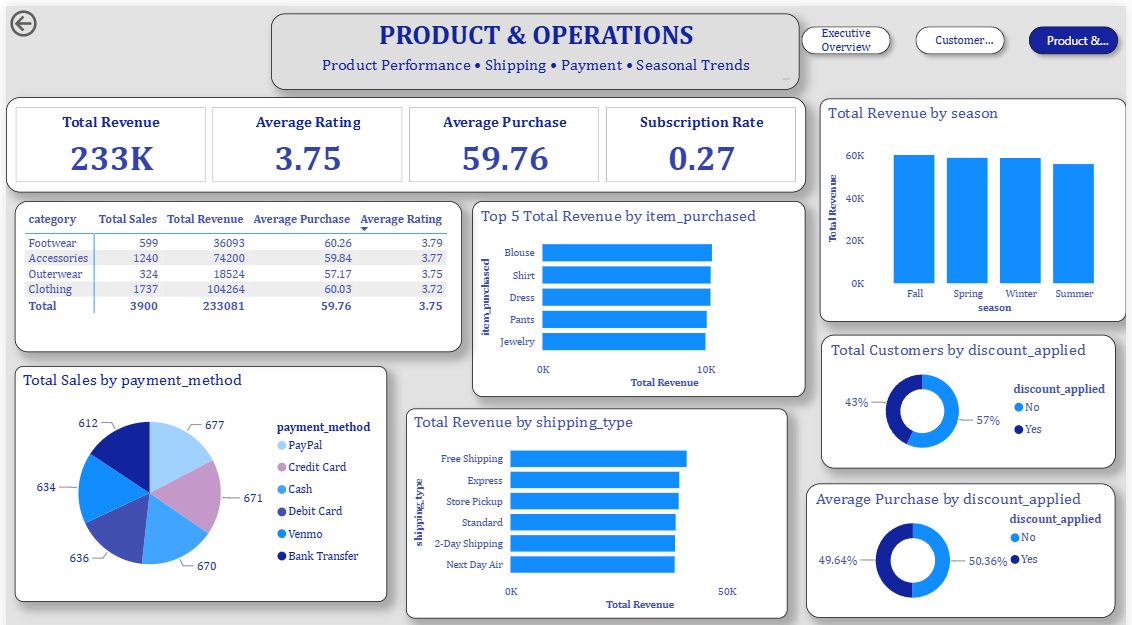

Layout of this report page (visuals, bound fields, positions):
{"tool":"powerbi","page":{"name":"Product & Operations","canvas":[1280,720],"ordinal":2},"visuals":[{"type":"textbox","title":"PRODUCT & OPERATIONS","box":[303,8,604,87],"z":0},{"type":"cardVisual","fields":{"Data":["Measures (2).Total Revenue","Measures (2).Average Rating","Measures (2).Average Purchase","Measures (2).Subscription Rate"]},"box":[0,103.8,914.1,109],"z":1000},{"type":"clusteredBarChart","title":"Top 5 Total Revenue by item_purchased","fields":{"Category":["public customer.item_purchased"],"Y":["Measures (2).Total Revenue"]},"box":[533.3,223.1,380.8,224.4],"z":2000},{"type":"clusteredBarChart","fields":{"Category":["public customer.shipping_type"],"Y":["Measures (2).Total Revenue"]},"box":[457.7,460.3,435.9,239.7],"z":3000},{"type":"actionButton","box":[0,0,100,40],"z":4000},{"type":"pieChart","fields":{"Category":["public customer.payment_method"],"Y":["Measures (2).Total Sales"]},"box":[10.3,411.5,425.6,269.2],"z":5000},{"type":"clusteredColumnChart","title":"Total Revenue by season","fields":{"Category":["public customer.season"],"Y":["Measures (2).Total Revenue"]},"box":[929.5,105.1,350,255.1],"z":6000},{"type":"donutChart","fields":{"Category":["public customer.discount_applied"],"Y":["Measures (2).Total Customers"]},"box":[930.8,375.6,337.2,152.6],"z":7000},{"type":"donutChart","fields":{"Category":["public customer.discount_applied"],"Y":["Measures (2).Average Purchase"]},"box":[914.1,546.2,353.8,153.8],"z":8000},{"type":"pivotTable","fields":{"Rows":["public customer.category"],"Values":["Measures (2).Total Sales","Measures (2).Total Revenue","Measures (2).Average Purchase","Measures (2).Average Rating"]},"box":[10.3,223.1,511.5,173.1],"z":9000},{"type":"pageNavigator","box":[899.7,14.7,380.3,50.1],"z":11000}]}

Visuals, with their boxes in screenshot pixels (x1, y1, x2, y2), scaled from the page's 1280x720 canvas onto the 1132x625 screenshot:
"PRODUCT & OPERATIONS" textbox: x1=268, y1=7, x2=802, y2=82
cardVisual - Measures (2).Total Revenue x Measures (2).Average Rating: x1=0, y1=90, x2=808, y2=185
"Top 5 Total Revenue by item_purchased" clusteredBarChart: x1=472, y1=194, x2=808, y2=388
clusteredBarChart - public customer.shipping_type x Measures (2).Total Revenue: x1=405, y1=400, x2=790, y2=608
actionButton: x1=0, y1=0, x2=88, y2=35
pieChart - public customer.payment_method x Measures (2).Total Sales: x1=9, y1=357, x2=385, y2=591
"Total Revenue by season" clusteredColumnChart: x1=822, y1=91, x2=1131, y2=313
donutChart - public customer.discount_applied x Measures (2).Total Customers: x1=823, y1=326, x2=1121, y2=459
donutChart - public customer.discount_applied x Measures (2).Average Purchase: x1=808, y1=474, x2=1121, y2=608
pivotTable - public customer.category x Measures (2).Total Sales: x1=9, y1=194, x2=461, y2=344
pageNavigator: x1=796, y1=13, x2=1131, y2=56
